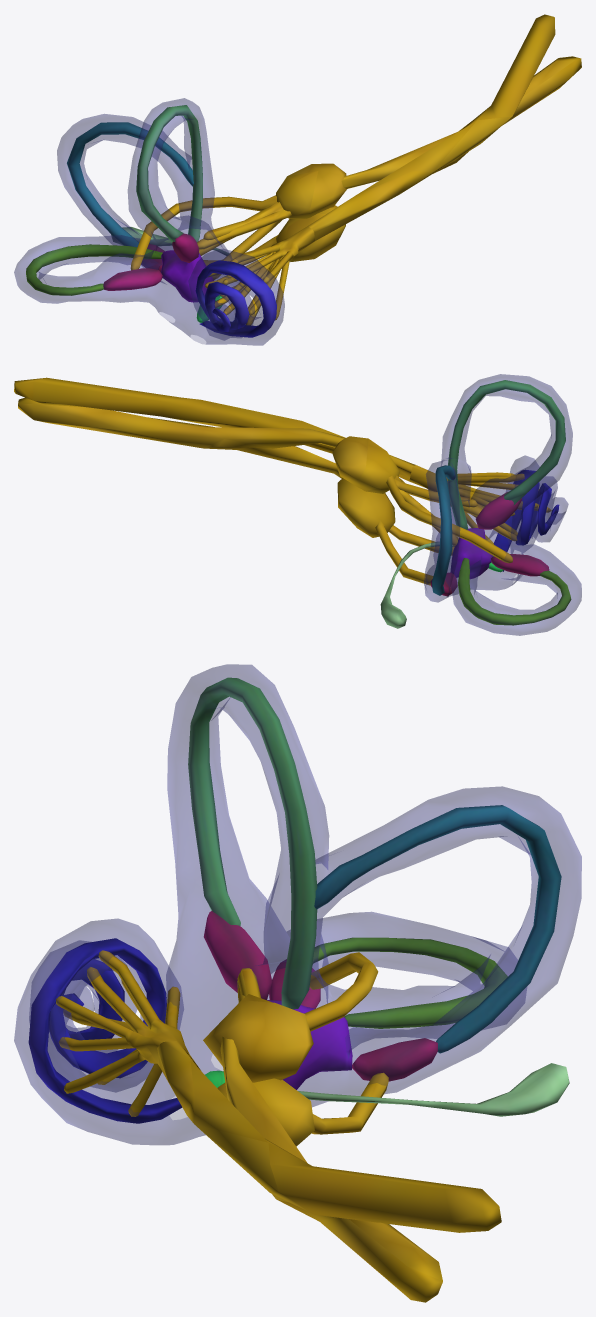
File: inner-ear.glb
The picture shows the model from 3 angles, top to bottom: view 1: azimuth 30°, elevation 25°; view 2: azimuth 150°, elevation 25°; view 3: azimuth 270°, elevation 25°; orthographic projection. The views are drawn at different scales.
Visible parts, largest first — view 1: Right_bony_labyrinth, Right_cochlear_nerve, Right_vestibular_nerve, Right_Cochlear_duct, Right_anterior_semicircular_duct, Right_posterior_semicircular_duct, Right_superior_vestibular_ganglion, Right_lateral_semicircular_duct, Right_Utricle, Right_inferior_vestibular_ganglion, Right_membranous_ampulla_of_lateral_semicircular_duct, Right_membranous_ampulla_of_anterior_semicircular_duct (+1 smaller); view 2: Right_bony_labyrinth, Right_vestibular_nerve, Right_cochlear_nerve, Right_anterior_semicircular_duct, Right_superior_vestibular_ganglion, Right_inferior_vestibular_ganglion, Right_Cochlear_duct, Right_lateral_semicircular_duct, Right_posterior_semicircular_duct, Right_Utricle, Right_membranous_ampulla_of_anterior_semicircular_duct, Right_endolymphatic_sac (+1 smaller); view 3: Right_bony_labyrinth, Right_cochlear_nerve, Right_anterior_semicircular_duct, Right_vestibular_nerve, Right_Cochlear_duct, Right_posterior_semicircular_duct, Right_lateral_semicircular_duct, Right_superior_vestibular_ganglion, Right_endolymphatic_sac, Right_membranous_ampulla_of_anterior_semicircular_duct, Right_Utricle, Right_membranous_ampulla_of_posterior_semicircular_duct (+1 smaller).
Part boxes in pixels (box(x1,y1,x2,y2)): Right_bony_labyrinth: box(14, 98, 284, 345); Right_cochlear_nerve: box(205, 14, 555, 325); Right_vestibular_nerve: box(130, 56, 581, 296); Right_Cochlear_duct: box(195, 260, 276, 337); Right_anterior_semicircular_duct: box(136, 105, 202, 242); Right_posterior_semicircular_duct: box(67, 122, 193, 246); Right_superior_vestibular_ganglion: box(276, 163, 347, 218); Right_lateral_semicircular_duct: box(26, 244, 162, 295); Right_Utricle: box(161, 250, 213, 302); Right_inferior_vestibular_ganglion: box(276, 205, 345, 261); Right_membranous_ampulla_of_lateral_semicircular_duct: box(103, 268, 162, 290); Right_membranous_ampulla_of_anterior_semicircular_duct: box(172, 233, 199, 262); Right_bony_labyrinth: box(424, 374, 581, 635); Right_vestibular_nerve: box(18, 397, 512, 585); Right_cochlear_nerve: box(14, 377, 551, 544); Right_anterior_semicircular_duct: box(447, 380, 565, 529); Right_superior_vestibular_ganglion: box(332, 436, 400, 493); Right_inferior_vestibular_ganglion: box(337, 478, 395, 537); Right_Cochlear_duct: box(493, 470, 559, 571); Right_lateral_semicircular_duct: box(458, 558, 571, 625); Right_posterior_semicircular_duct: box(432, 465, 455, 595); Right_Utricle: box(450, 528, 492, 578); Right_membranous_ampulla_of_anterior_semicircular_duct: box(475, 492, 521, 529); Right_endolymphatic_sac: box(380, 542, 453, 628); Right_bony_labyrinth: box(14, 664, 581, 1144); Right_cochlear_nerve: box(56, 950, 501, 1232); Right_anterior_semicircular_duct: box(188, 677, 317, 1009); Right_vestibular_nerve: box(220, 952, 442, 1302); Right_Cochlear_duct: box(28, 938, 182, 1123); Right_posterior_semicircular_duct: box(314, 805, 561, 1053); Right_lateral_semicircular_duct: box(313, 937, 507, 1028); Right_superior_vestibular_ganglion: box(203, 994, 313, 1082); Right_endolymphatic_sac: box(298, 1063, 569, 1116); Right_membranous_ampulla_of_anterior_semicircular_duct: box(203, 911, 272, 1000); Right_Utricle: box(267, 1000, 352, 1089); Right_membranous_ampulla_of_posterior_semicircular_duct: box(352, 1038, 437, 1081).
Bounding box in the file's own units: 0.0373 × 0.0147 × 0.0174.
15 materials, 15 textured.
